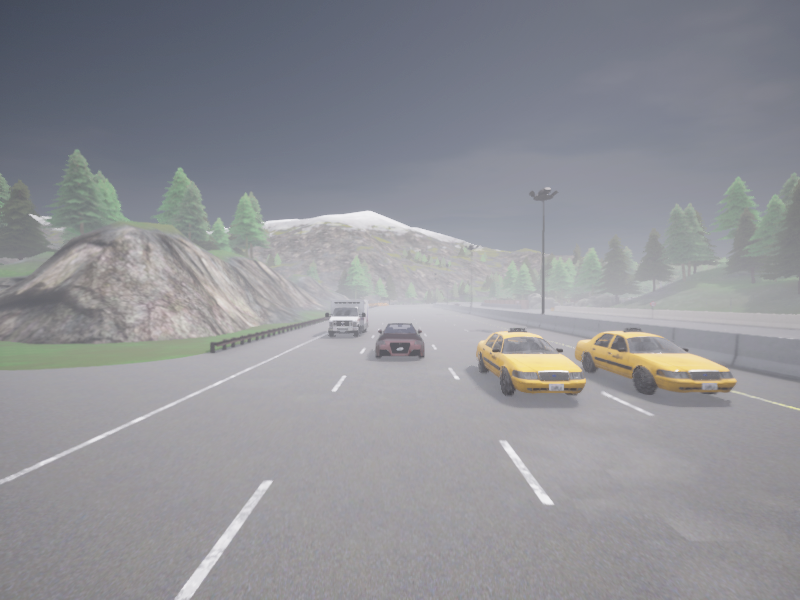vehicle: (574, 327, 736, 394), (476, 328, 585, 395), (375, 323, 424, 358), (325, 300, 368, 337), (453, 303, 458, 305)
